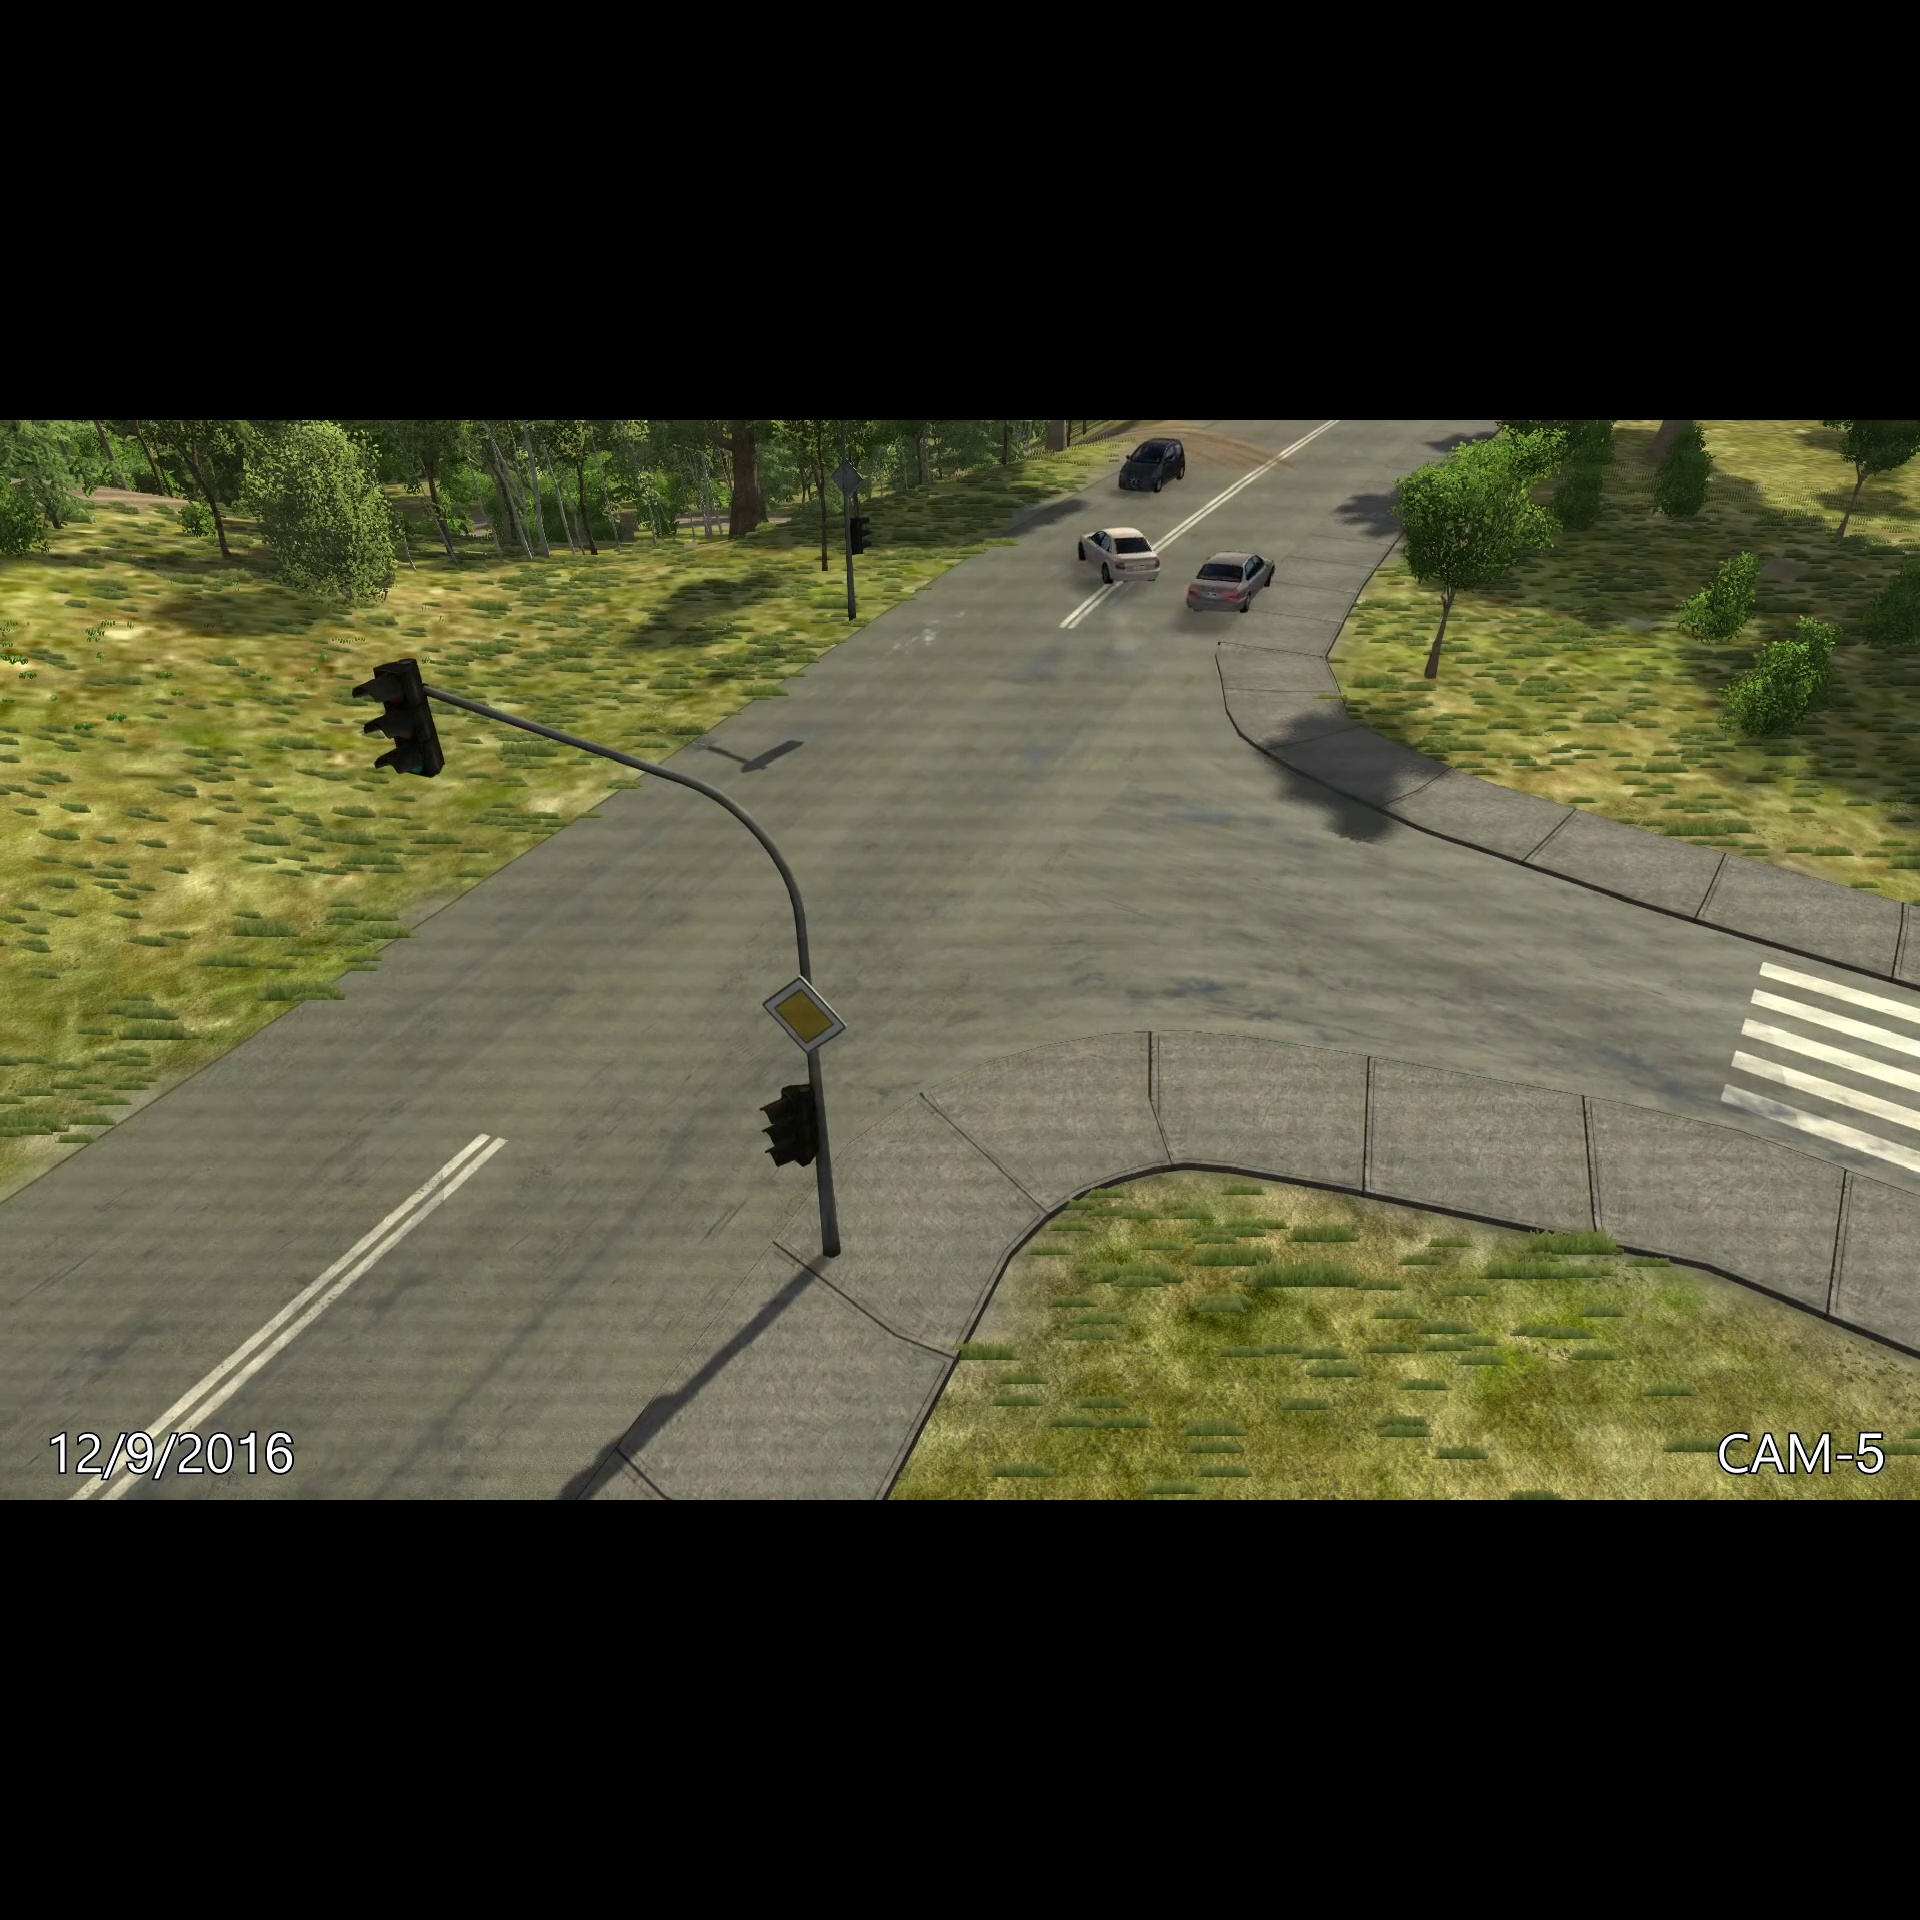vehicle: (1182, 542, 1280, 617), (1073, 522, 1166, 591), (1115, 431, 1192, 498)
